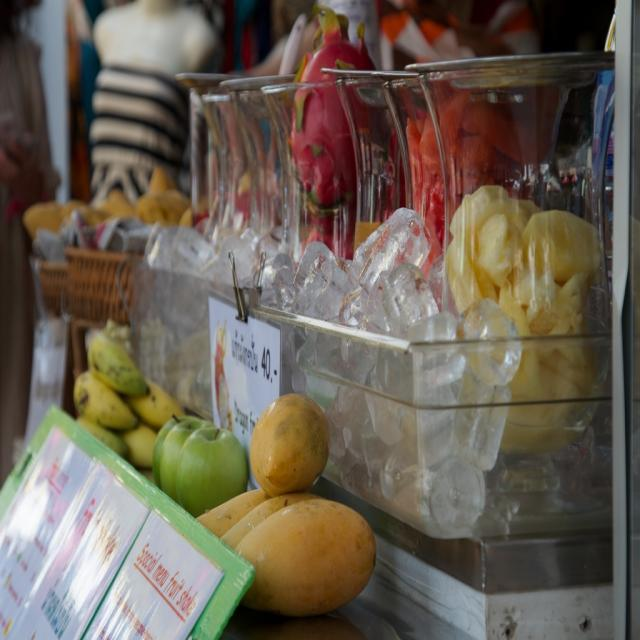Mango: (240, 501, 375, 613), (251, 399, 327, 513), (222, 492, 322, 553), (200, 487, 269, 537)
